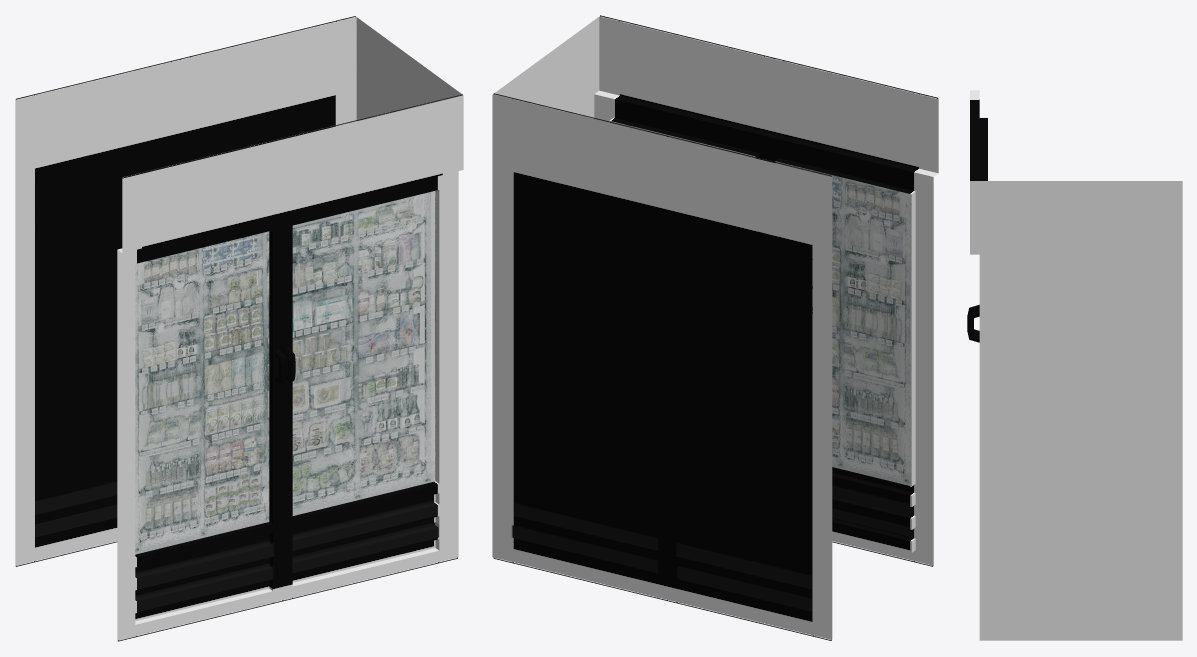
File: nevera.fbx
The picture shows the model from 3 angles, left to right: view 1: azimuth 30°, elevation 25°; view 2: azimuth 150°, elevation 25°; view 3: azimuth 270°, elevation 25°; orthographic projection.
Visible parts, largest first — view 1: Cubo.002; view 2: Cubo.002; view 3: Cubo.002.
Boxes of the visible parts, x1=… form: Cubo.002: x1=15, y1=16, x2=463, y2=641; Cubo.002: x1=492, y1=15, x2=938, y2=640; Cubo.002: x1=967, y1=90, x2=1182, y2=640.
Size of the model in its own units: 760 by 1000 by 420.
